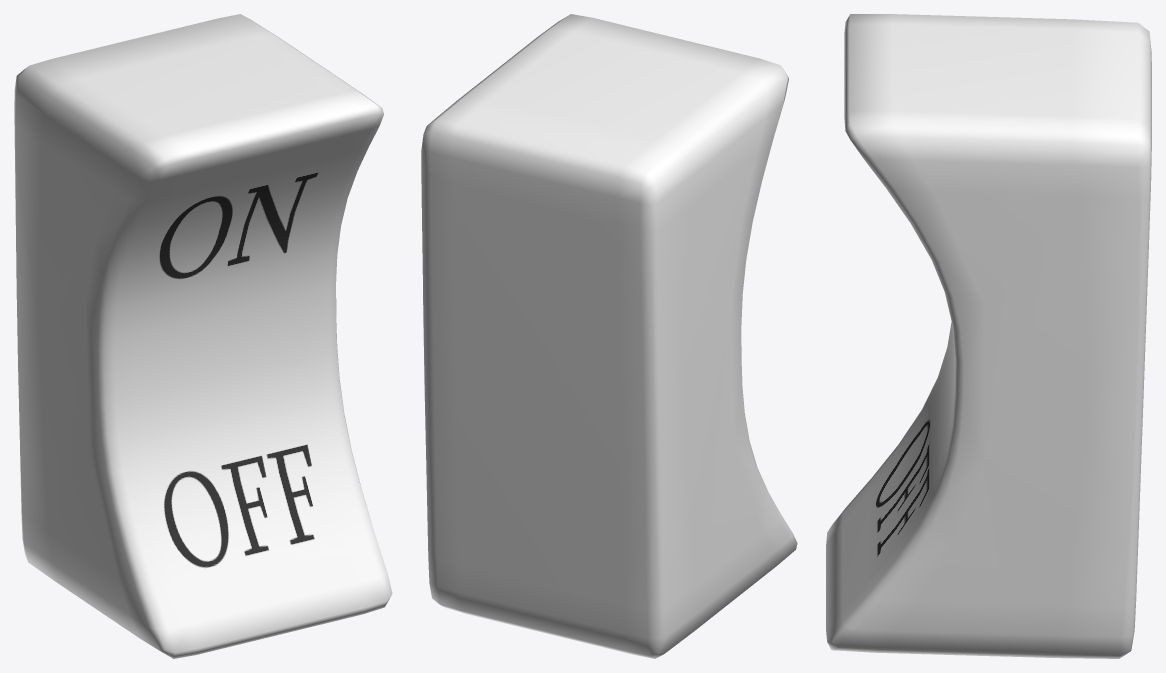
File: lightswitch_button.fbx
The picture shows the model from 3 angles, left to right: view 1: azimuth 30°, elevation 25°; view 2: azimuth 150°, elevation 25°; view 3: azimuth 270°, elevation 25°; orthographic projection. The views are drawn at different scales.
Parts seen in each view (by area): view 1: buttonLOW; view 2: buttonLOW; view 3: buttonLOW.
Part boxes in pixels (x1=…): buttonLOW: x1=14, y1=14, x2=392, y2=658; buttonLOW: x1=421, y1=14, x2=797, y2=658; buttonLOW: x1=826, y1=14, x2=1151, y2=658.
Size of the model in its own units: 7.72 by 15.61 by 8.57.
1 material, 1 textured.
